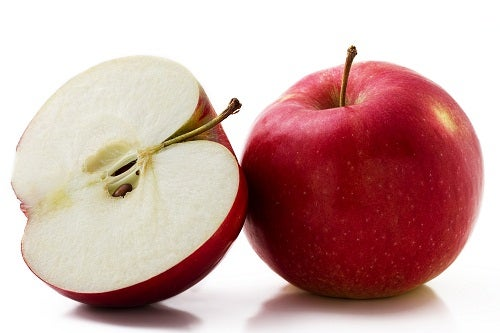apple: (232, 54, 486, 304)
